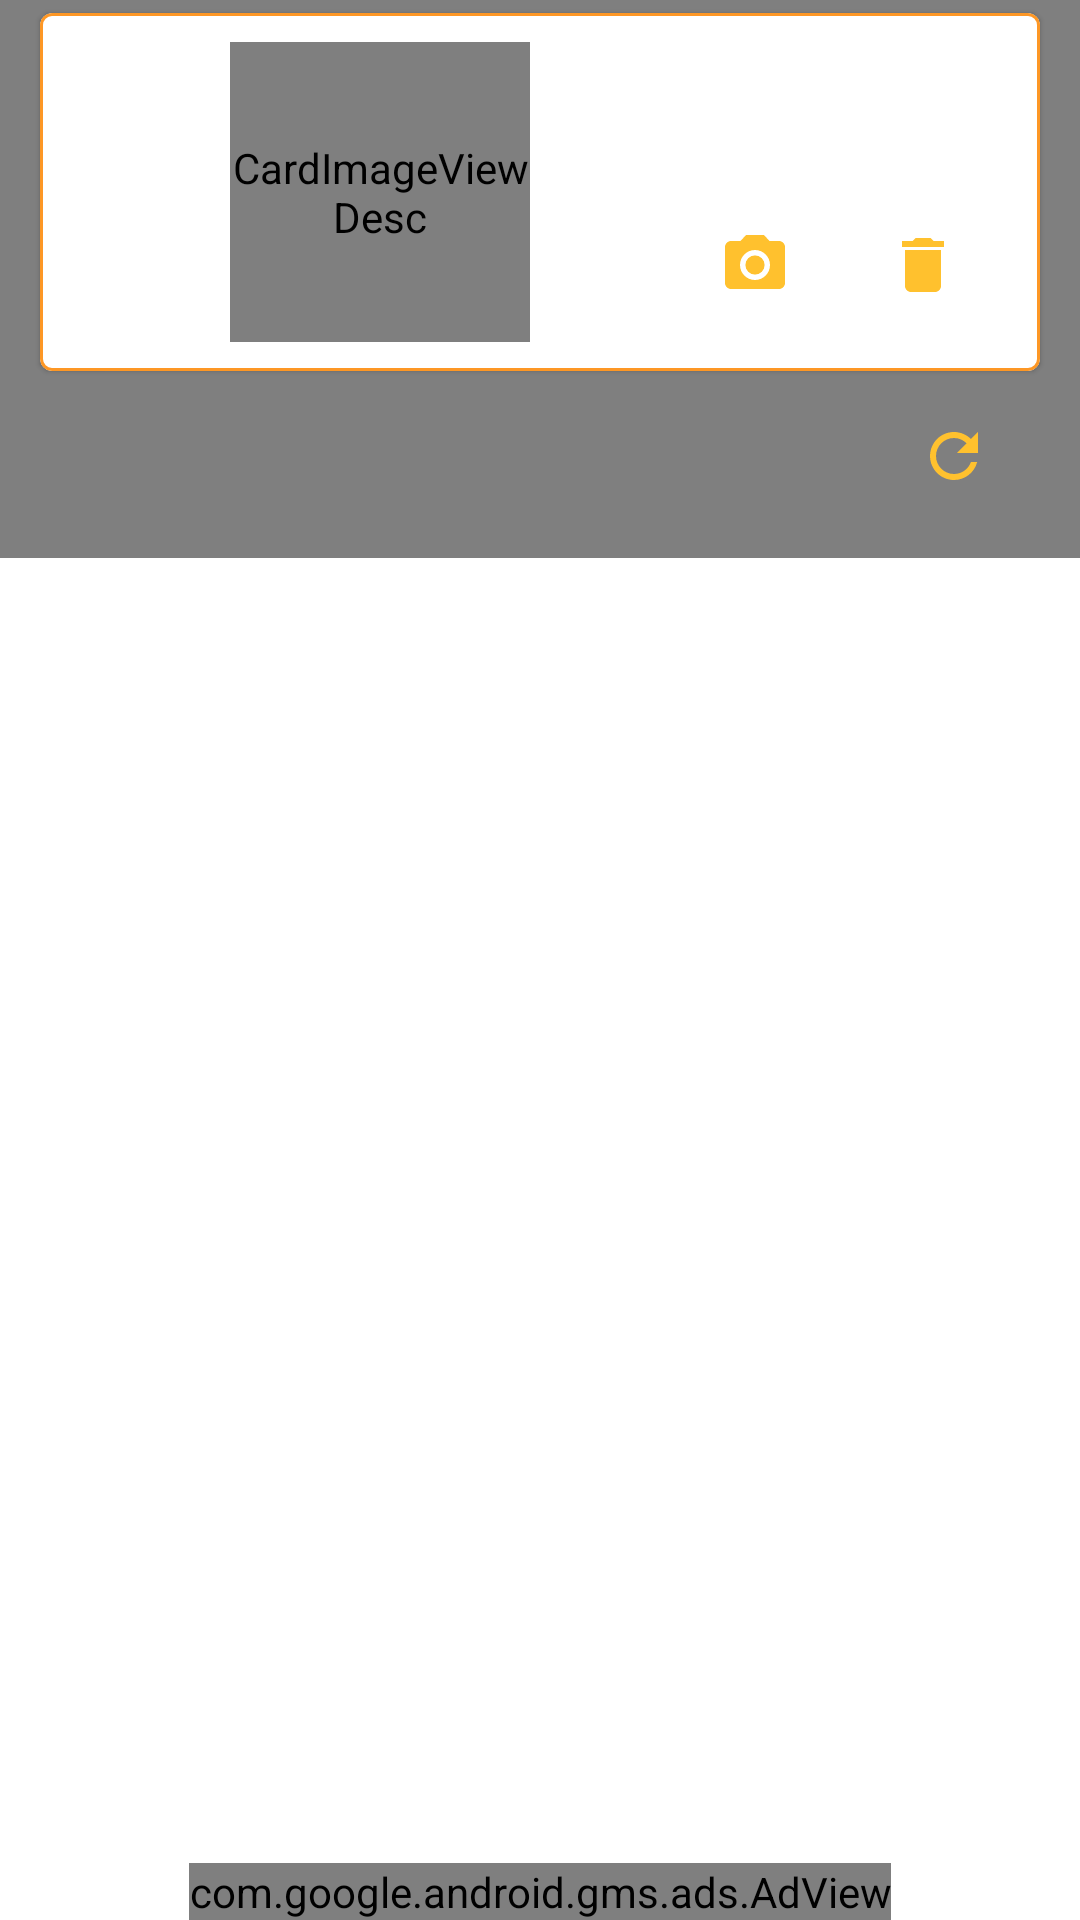

Locate icon controls on the screen. Image size 1080x1920, boxes as (x1, y1, x2, y2).
camera: (725, 235, 785, 289)
delete: (902, 238, 944, 292)
refresh: (930, 432, 978, 480)
